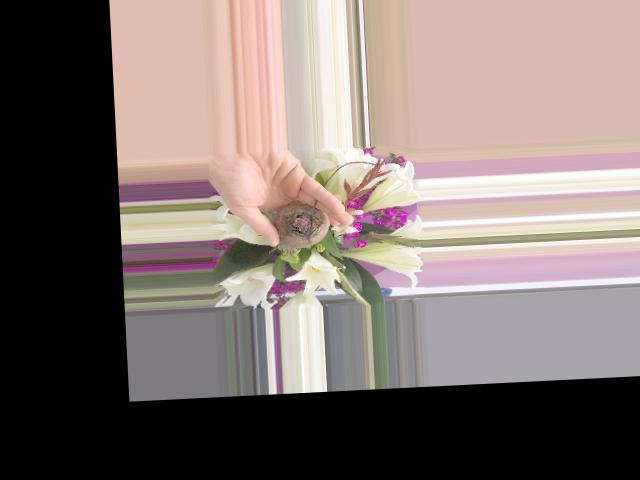beet: (272, 200, 332, 249)
